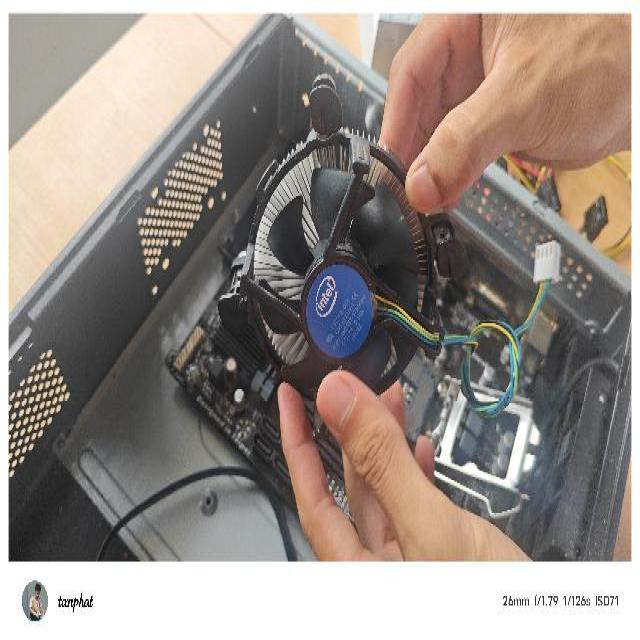CPU_Fan: (216, 67, 472, 444)
